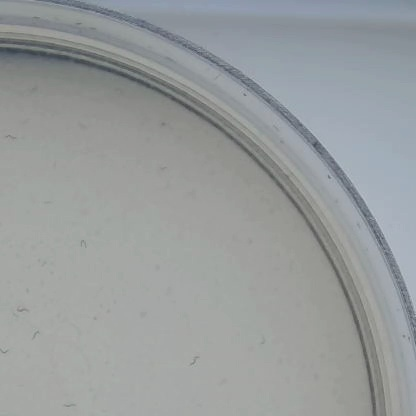worm: (28, 320, 46, 347), (57, 397, 84, 412), (73, 234, 100, 249), (185, 352, 207, 369), (14, 301, 36, 317), (0, 128, 22, 143), (0, 338, 14, 358), (255, 334, 271, 351), (37, 197, 54, 212)
